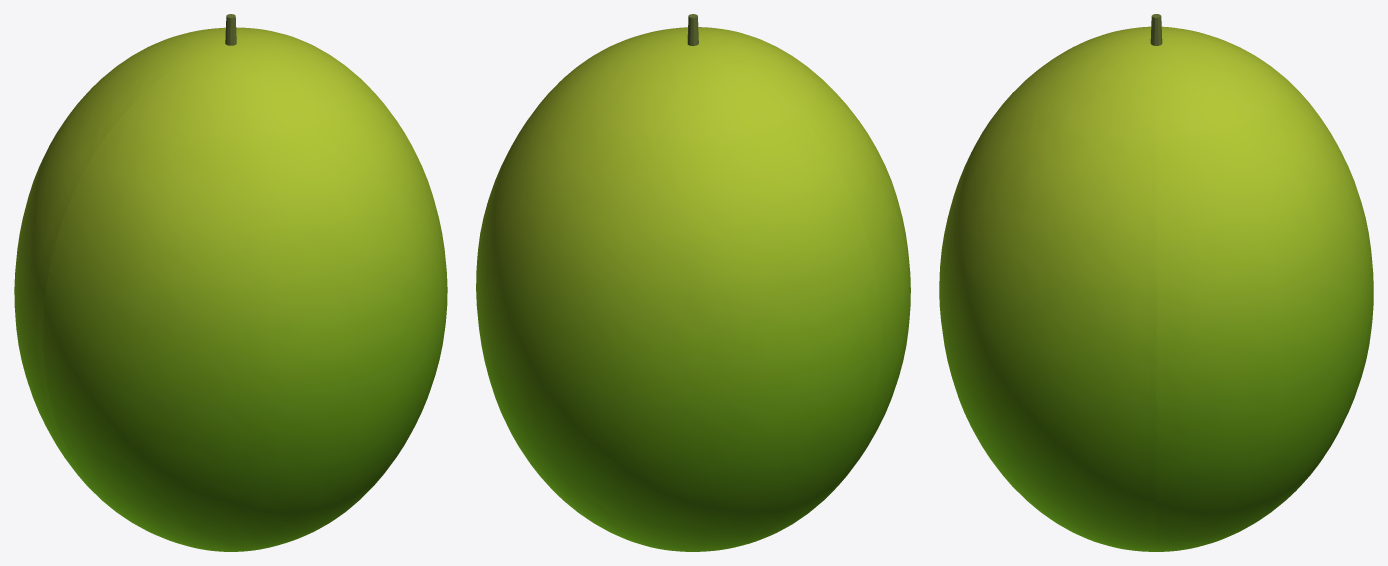
Rendered from raisin-blanc.glb.
3 views of the same model, side by side, from view 1: azimuth 30°, elevation 25°; view 2: azimuth 150°, elevation 25°; view 3: azimuth 270°, elevation 25° (orthographic).
Visible parts, largest first — view 1: entier_peau, moitie_B_peau, moitie_A_peau; view 2: moitie_A_peau, entier_peau, moitie_B_peau; view 3: entier_peau, moitie_A_peau, moitie_B_peau.
Boxes of the visible parts, left/top/right/bottom form: entier_peau: left=14, top=27, right=447, bottom=551; moitie_B_peau: left=43, top=39, right=447, bottom=551; moitie_A_peau: left=14, top=27, right=333, bottom=508; moitie_A_peau: left=476, top=39, right=881, bottom=551; entier_peau: left=476, top=27, right=910, bottom=551; moitie_B_peau: left=592, top=27, right=910, bottom=503; entier_peau: left=939, top=26, right=1373, bottom=551; moitie_A_peau: left=1156, top=27, right=1373, bottom=551; moitie_B_peau: left=939, top=27, right=1156, bottom=551.
Bounding box in the file's own units: 1.44 × 1.9 × 1.44.
